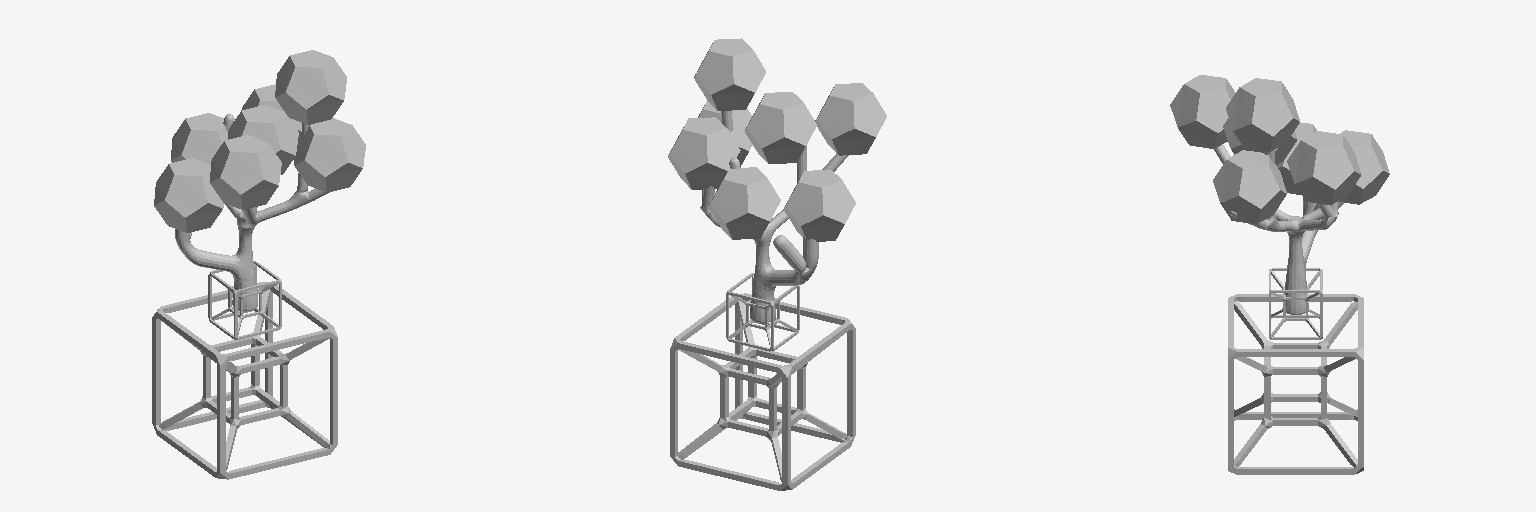
File: TreeHash34628AFF.obj
The picture shows the model from 3 angles: view 1: azimuth 30°, elevation 25°; view 2: azimuth 150°, elevation 25°; view 3: azimuth 270°, elevation 25°; orthographic projection.
Visible parts, largest first — view 1: Cube_Cube.006; view 2: Cube_Cube.006; view 3: Cube_Cube.006.
Part boxes in pixels (left/top/right/bottom): Cube_Cube.006: left=152, top=50, right=365, bottom=479; Cube_Cube.006: left=668, top=38, right=886, bottom=490; Cube_Cube.006: left=1170, top=75, right=1389, bottom=474.
Bounding box in the file's own units: 8.99 × 18.31 × 9.54.